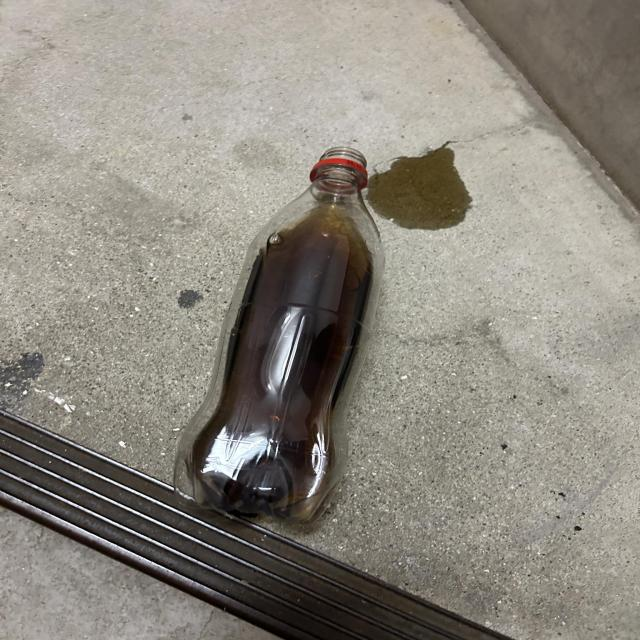low: (174, 147, 383, 522)
